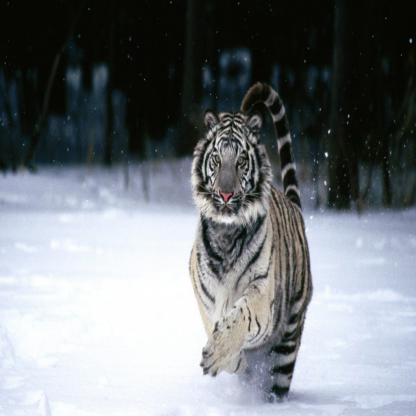tiger: (194, 108, 269, 242)
